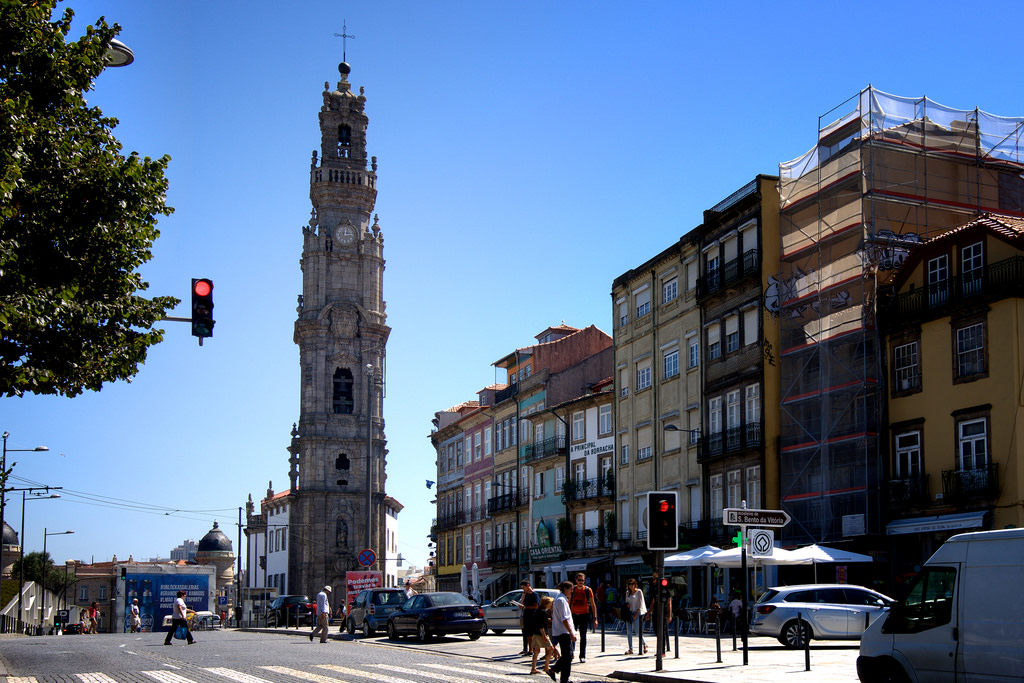clerigos: (285, 16, 389, 616)
